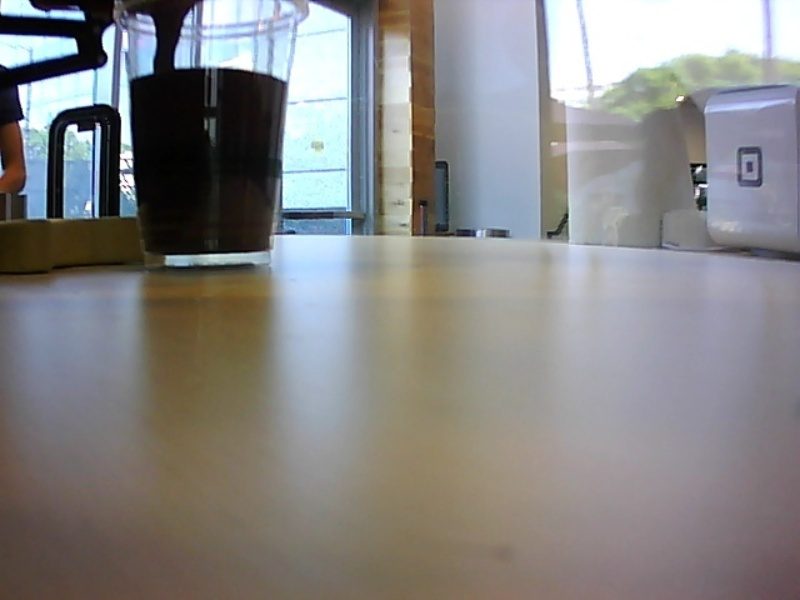cup: (108, 1, 310, 276)
limit: (128, 59, 293, 89)
